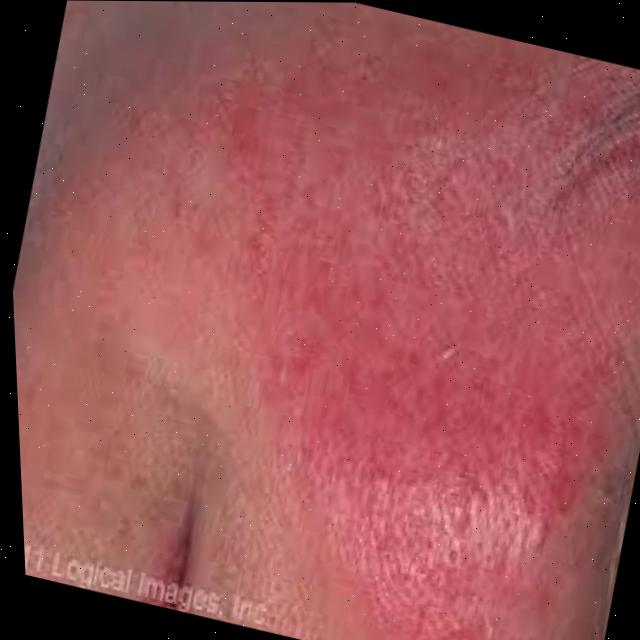Rosacea: (23, 0, 640, 640)
